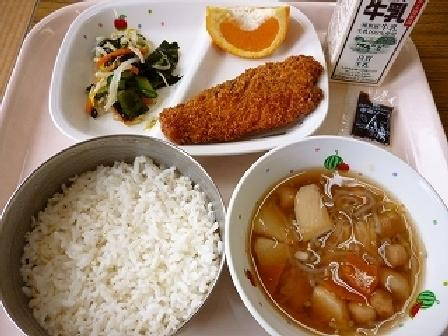Citrus: (197, 2, 301, 62)
Milk: (330, 1, 431, 84)
Rice: (8, 142, 228, 326)
Salad: (57, 14, 179, 127)
cutlet: (164, 57, 325, 149)
vegetable soup: (237, 138, 446, 331)
